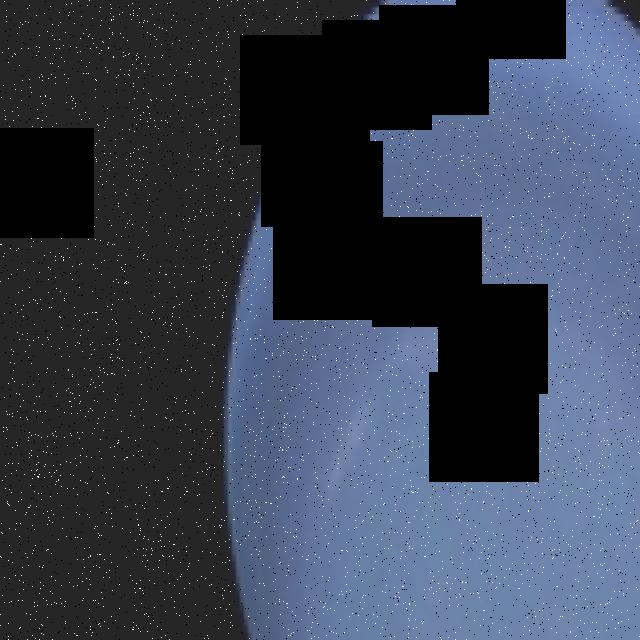Neptune: (216, 0, 640, 640)
